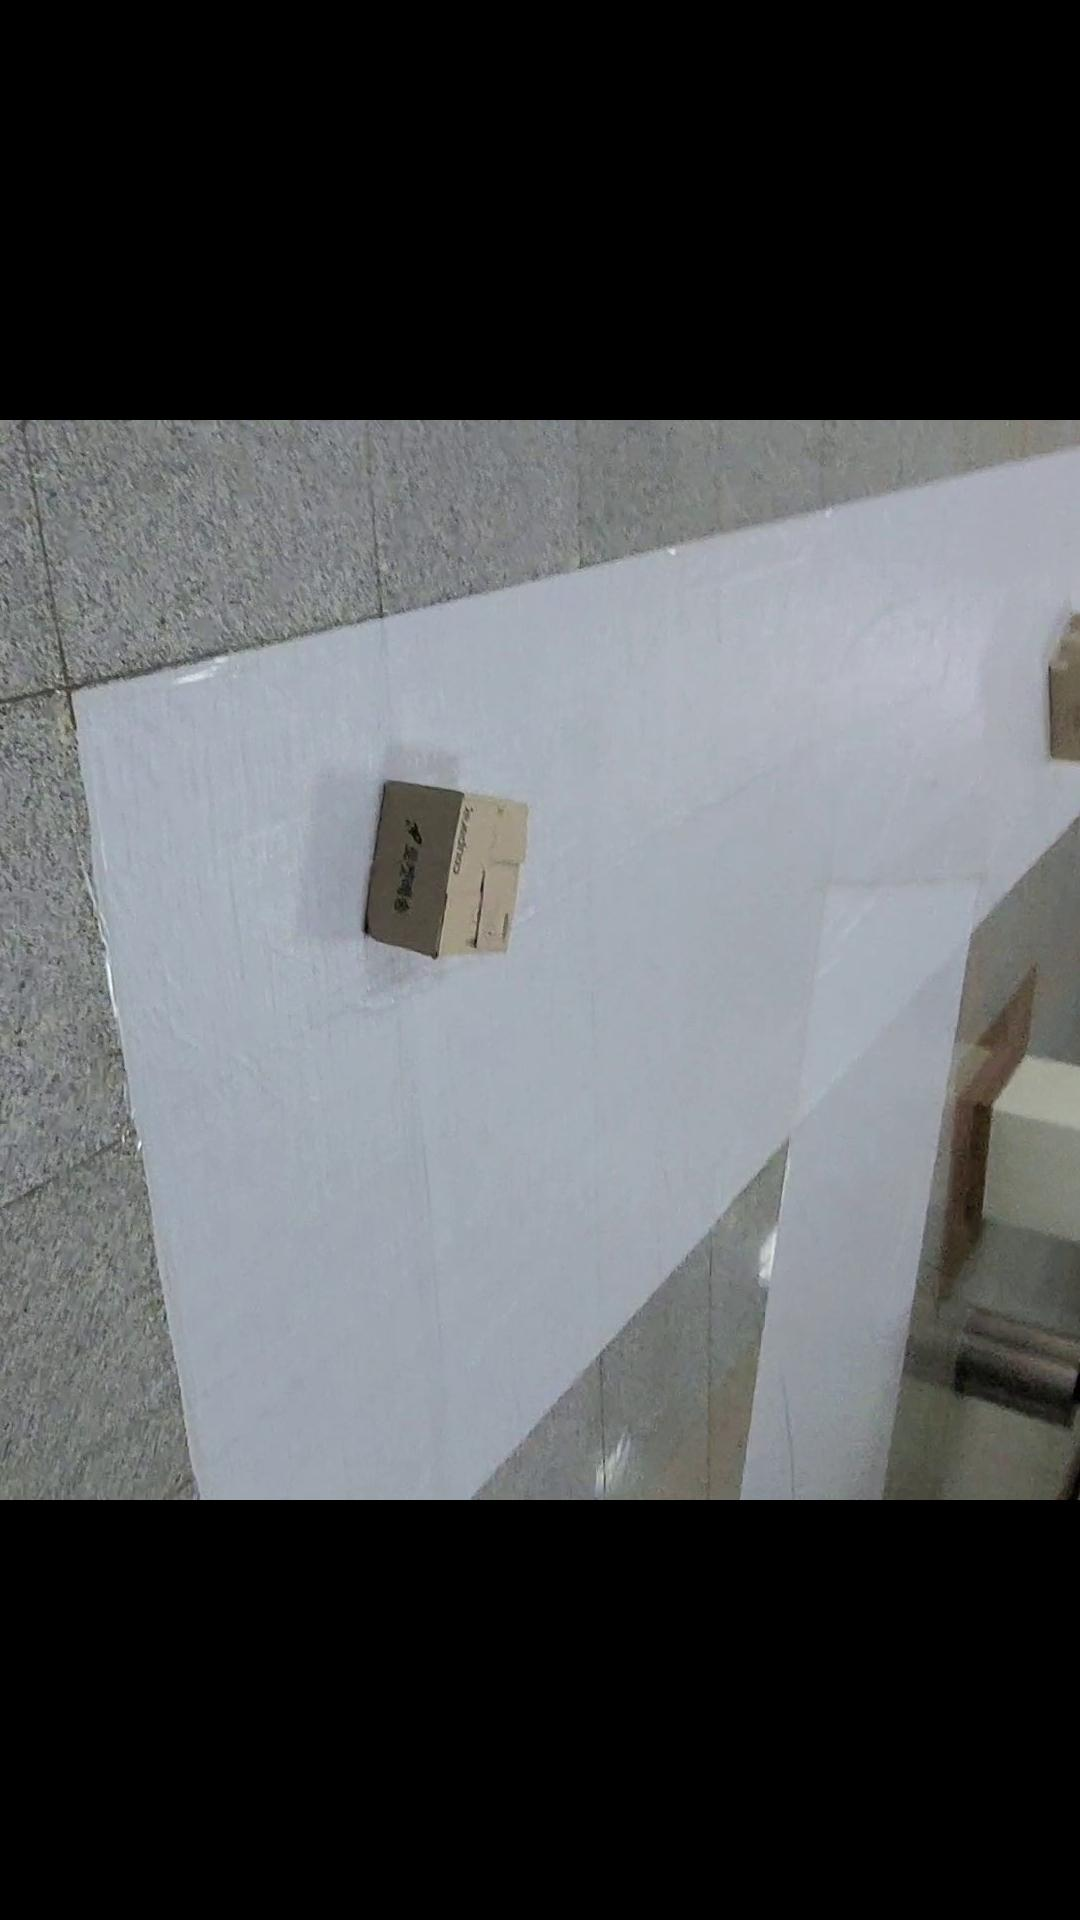Box: (357, 775, 560, 980), (996, 591, 1080, 804)
